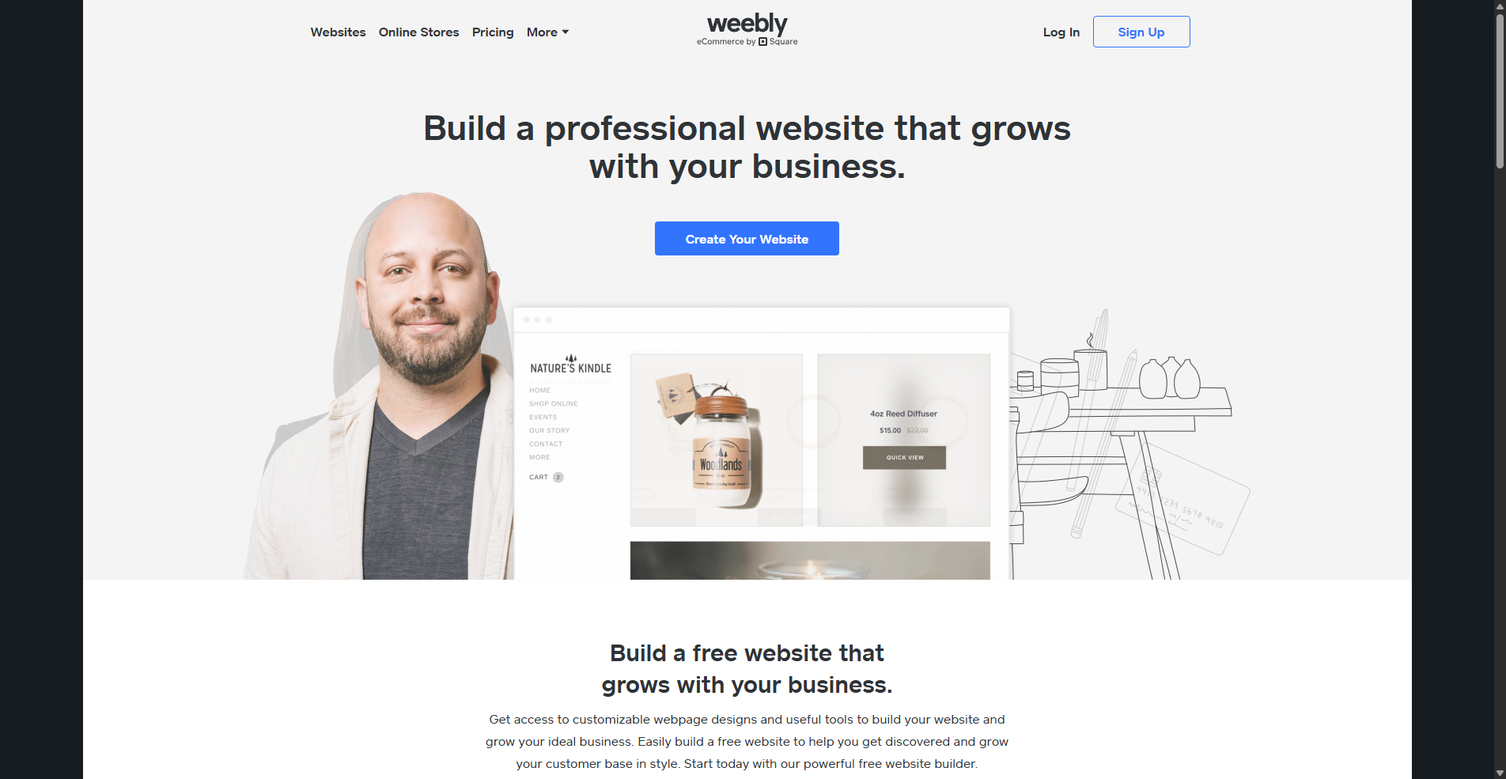button: (1093, 16, 1190, 47)
link: (655, 221, 839, 255), (379, 22, 459, 41), (310, 22, 366, 41), (472, 22, 514, 41), (527, 22, 569, 41), (1043, 22, 1080, 41)
